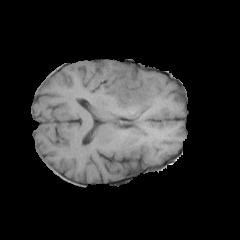glioma: (103, 67, 163, 115)
